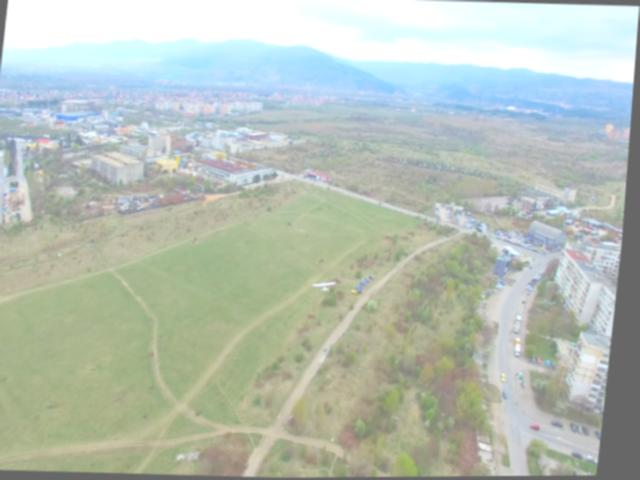plane: (318, 280, 341, 291)
